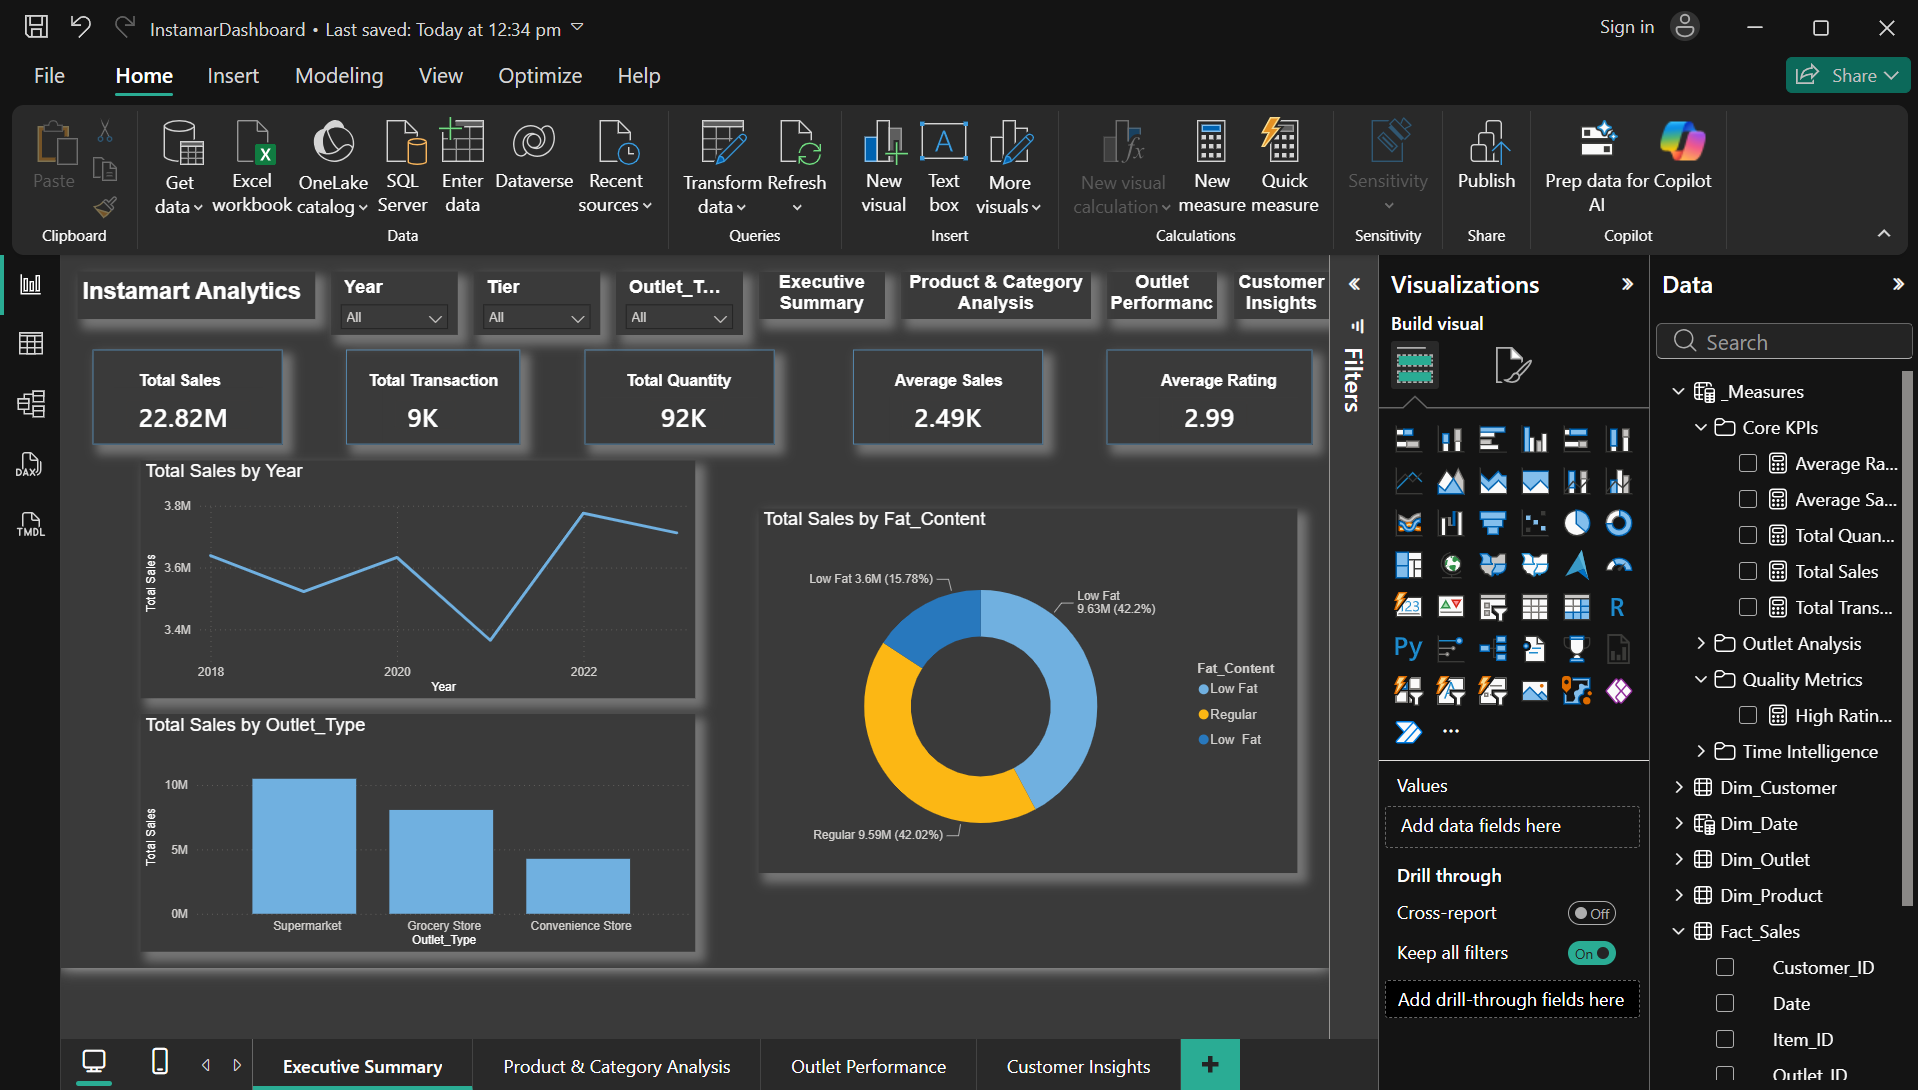

Layout of this report page (visuals, bound fields, positions):
{"tool":"powerbi","page":{"name":"Executive Summary","canvas":[1280,720],"ordinal":0},"visuals":[{"type":"shape","box":[32,80,192,96],"z":0},{"type":"shape","box":[800,80,192,96],"z":1000},{"type":"shape","box":[528,80,192,96],"z":2000},{"type":"shape","box":[288,80,176,96],"z":3000},{"type":"cardVisual","fields":{"Data":["_Measures.Total Sales"]},"box":[48,112,160,64],"z":4000},{"type":"textbox","box":[32,96,176,64],"z":5000},{"type":"cardVisual","fields":{"Data":["_Measures.Total Transactions"]},"box":[320,112,96,64],"z":6000},{"type":"cardVisual","fields":{"Data":["_Measures.Total Quantity"]},"box":[576,112,112,64],"z":7000},{"type":"cardVisual","fields":{"Data":["_Measures.Average Sales"]},"box":[832,112,128,64],"z":8000},{"type":"shape","box":[1056,80,208,96],"z":9000},{"type":"cardVisual","fields":{"Data":["_Measures.Average Rating"]},"box":[1104,112,112,64],"z":10000},{"type":"textbox","box":[288,96,176,32],"z":11000},{"type":"textbox","box":[544,96,160,32],"z":12000},{"type":"textbox","box":[816,96,160,32],"z":13000},{"type":"textbox","box":[1088,96,160,32],"z":14000},{"type":"lineChart","fields":{"Category":["Dim_Date.Year"],"Y":["_Measures.Total Sales"]},"box":[80,192,560,256],"z":15000},{"type":"clusteredColumnChart","fields":{"Category":["Dim_Outlet.Outlet_Type"],"Y":["_Measures.Total Sales"]},"box":[80,464,560,256],"z":16000},{"type":"donutChart","fields":{"Category":["Dim_Product.Fat_Content"],"Y":["_Measures.Total Sales"]},"box":[704,240,448,256],"z":17000},{"type":"slicer","fields":{"Values":["Dim_Outlet.Tier"]},"box":[448,0,128,64],"z":19000},{"type":"slicer","fields":{"Values":["Dim_Date.Year"]},"box":[288,0,128,64],"z":20000},{"type":"slicer","fields":{"Values":["Dim_Outlet.Outlet_Type"]},"box":[608,0,128,64],"z":21000},{"type":"textbox","box":[32,0,240,48],"z":22000},{"type":"actionButton","title":"Product & Category Analysis","box":[960,0,192,48],"z":23000},{"type":"actionButton","title":"Outlet Performance","box":[1168,0,112,48],"z":24000},{"type":"actionButton","title":"Executive Summary","box":[800,0,144,48],"z":25000},{"type":"actionButton","title":"Customer Insights ","box":[1168,192,96,48],"z":26000}]}

Visuals, with their boxes on the page's 1280x720 design canvas (x1, y1, x2, y2). These are canvas units, not pixel positions in the 1918x1090 screenshot, which may show the page scaled, cropped or inside an application window:
shape: {"left": 32, "top": 80, "right": 224, "bottom": 176}
shape: {"left": 800, "top": 80, "right": 992, "bottom": 176}
shape: {"left": 528, "top": 80, "right": 720, "bottom": 176}
shape: {"left": 288, "top": 80, "right": 464, "bottom": 176}
cardVisual - _Measures.Total Sales: {"left": 48, "top": 112, "right": 208, "bottom": 176}
textbox: {"left": 32, "top": 96, "right": 208, "bottom": 160}
cardVisual - _Measures.Total Transactions: {"left": 320, "top": 112, "right": 416, "bottom": 176}
cardVisual - _Measures.Total Quantity: {"left": 576, "top": 112, "right": 688, "bottom": 176}
cardVisual - _Measures.Average Sales: {"left": 832, "top": 112, "right": 960, "bottom": 176}
shape: {"left": 1056, "top": 80, "right": 1264, "bottom": 176}
cardVisual - _Measures.Average Rating: {"left": 1104, "top": 112, "right": 1216, "bottom": 176}
textbox: {"left": 288, "top": 96, "right": 464, "bottom": 128}
textbox: {"left": 544, "top": 96, "right": 704, "bottom": 128}
textbox: {"left": 816, "top": 96, "right": 976, "bottom": 128}
textbox: {"left": 1088, "top": 96, "right": 1248, "bottom": 128}
lineChart - Dim_Date.Year x _Measures.Total Sales: {"left": 80, "top": 192, "right": 640, "bottom": 448}
clusteredColumnChart - Dim_Outlet.Outlet_Type x _Measures.Total Sales: {"left": 80, "top": 464, "right": 640, "bottom": 720}
donutChart - Dim_Product.Fat_Content x _Measures.Total Sales: {"left": 704, "top": 240, "right": 1152, "bottom": 496}
slicer - Dim_Outlet.Tier: {"left": 448, "top": 0, "right": 576, "bottom": 64}
slicer - Dim_Date.Year: {"left": 288, "top": 0, "right": 416, "bottom": 64}
slicer - Dim_Outlet.Outlet_Type: {"left": 608, "top": 0, "right": 736, "bottom": 64}
textbox: {"left": 32, "top": 0, "right": 272, "bottom": 48}
"Product & Category Analysis" actionButton: {"left": 960, "top": 0, "right": 1152, "bottom": 48}
"Outlet Performance" actionButton: {"left": 1168, "top": 0, "right": 1280, "bottom": 48}
"Executive Summary" actionButton: {"left": 800, "top": 0, "right": 944, "bottom": 48}
"Customer Insights " actionButton: {"left": 1168, "top": 192, "right": 1264, "bottom": 240}
